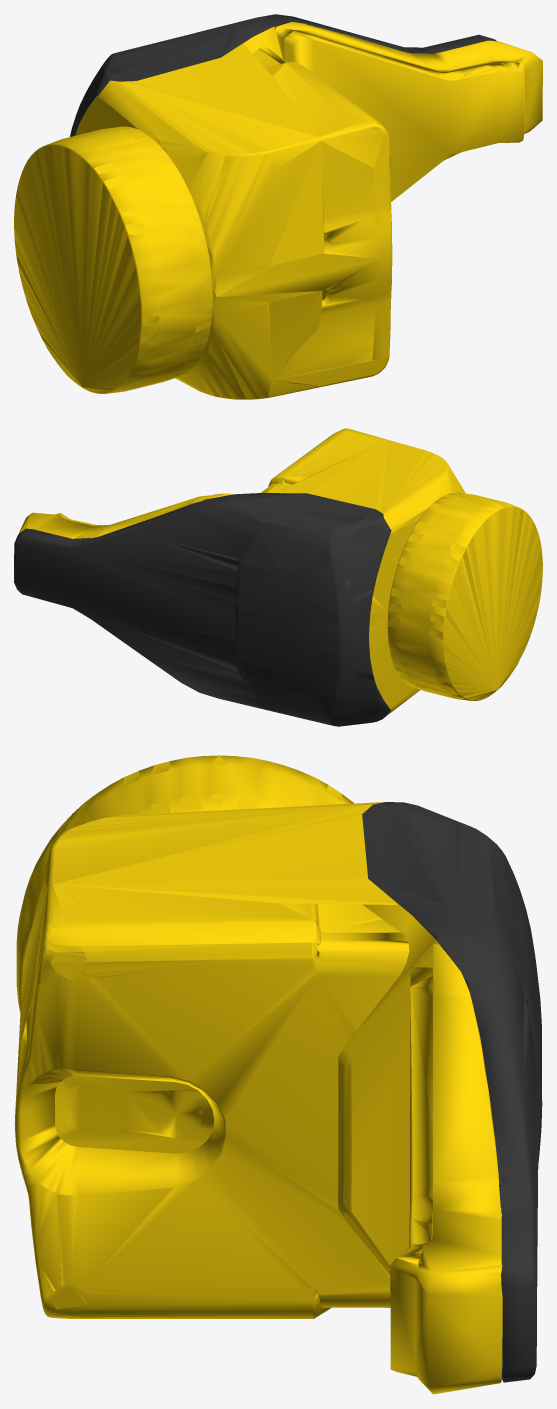
The model's file is arm_link_wr1.obj.
3 views of the same model, one above another, from view 1: azimuth 30°, elevation 25°; view 2: azimuth 150°, elevation 25°; view 3: azimuth 270°, elevation 25° (orthographic). The views are drawn at different scales.
Visible parts, largest first — view 1: arm0.link_wr1; view 2: arm0.link_wr1; view 3: arm0.link_wr1.
Part boxes in pixels (x1,y1,x2,y2): arm0.link_wr1: (14,14,542,399); arm0.link_wr1: (14,428,542,726); arm0.link_wr1: (14,755,542,1394).
Bounding box in the file's own units: 0.1802 × 0.0839 × 0.099.
